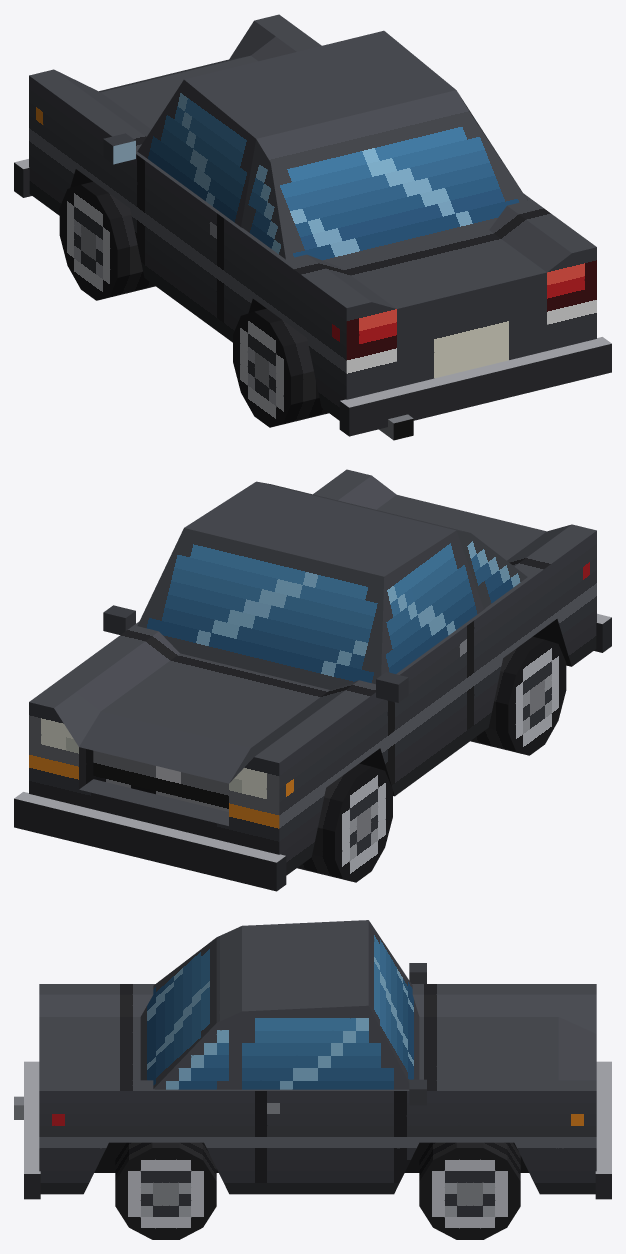
File: Car.gltf
3 views of the same model, one above another, from view 1: azimuth 30°, elevation 25°; view 2: azimuth 150°, elevation 25°; view 3: azimuth 270°, elevation 25° (orthographic). The views are drawn at different scales.
Visible parts, largest first — view 1: base, roof, RearBumper, LBackWheel, LFrontWheel, LMirror, Exhaust, FrontBumper; view 2: base, roof, FrontBumper, LFrontWheel, LBackWheel, LMirror, RMirror, RearBumper; view 3: base, roof, RFrontWheel, RBackWheel, RearBumper, FrontBumper, RMirror.
Boxes of the visible parts, left/top/right/bottom form: base: left=29, top=14, right=596, bottom=420; roof: left=137, top=30, right=527, bottom=266; RearBumper: left=339, top=337, right=611, bottom=436; LBackWheel: left=233, top=308, right=328, bottom=427; LFrontWheel: left=59, top=181, right=155, bottom=300; LMirror: left=103, top=133, right=135, bottom=164; Exhaust: left=379, top=414, right=413, bottom=440; FrontBumper: left=14, top=159, right=31, bottom=197; base: left=29, top=469, right=596, bottom=875; roof: left=137, top=481, right=527, bottom=689; FrontBumper: left=14, top=792, right=286, bottom=891; LFrontWheel: left=297, top=763, right=392, bottom=882; LBackWheel: left=470, top=636, right=566, bottom=755; LMirror: left=376, top=672, right=408, bottom=702; RMirror: left=103, top=605, right=135, bottom=634; RearBumper: left=594, top=613, right=611, bottom=652; base: left=39, top=984, right=596, bottom=1194; roof: left=140, top=920, right=419, bottom=1089; RFrontWheel: left=419, top=1142, right=520, bottom=1239; RBackWheel: left=115, top=1142, right=216, bottom=1239; RearBumper: left=24, top=1061, right=40, bottom=1199; FrontBumper: left=595, top=1061, right=611, bottom=1199; RMirror: left=409, top=1079, right=426, bottom=1105.
Size of the model in its own units: 0.7375 by 0.5938 by 1.48.
Materials: 1 (1 with a texture image).
